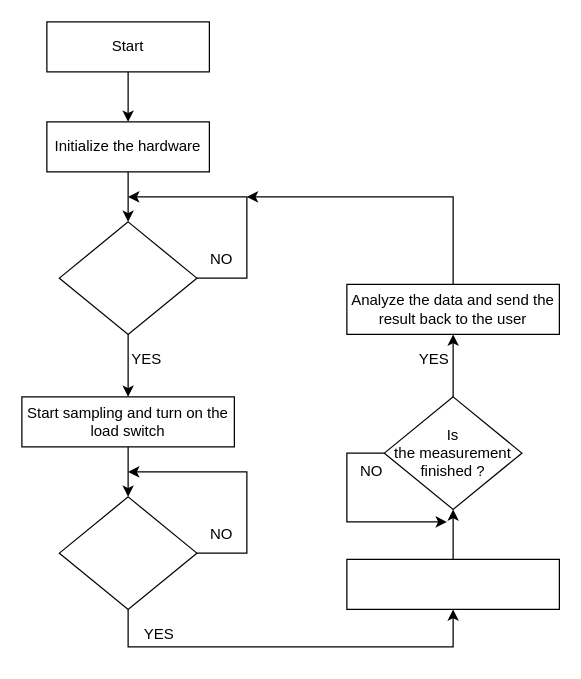
Some shapes in this 581 by 679 pixel diagram are drawn without their labels. The centre of each missing label's shape, as x and y in pixels:
Is 'S' received from uart: point (127, 277)
Is half of the measurement reached ?: point (127, 552)
turn off the load switch: point (452, 583)
